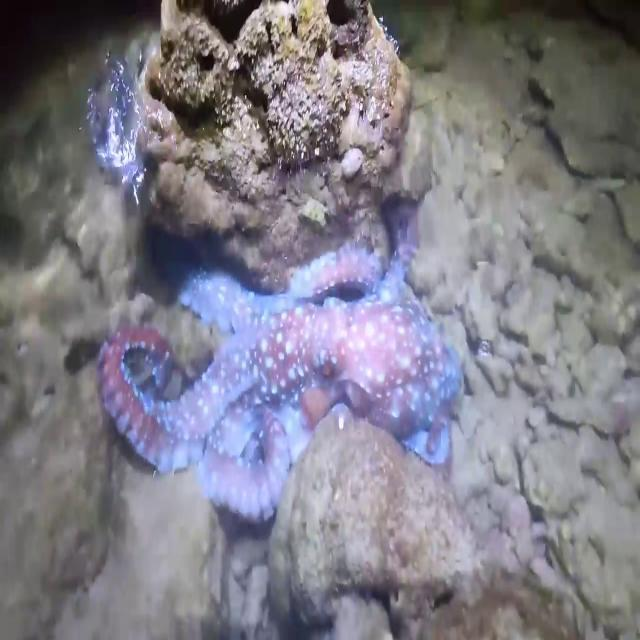octopus: (95, 201, 464, 528)
